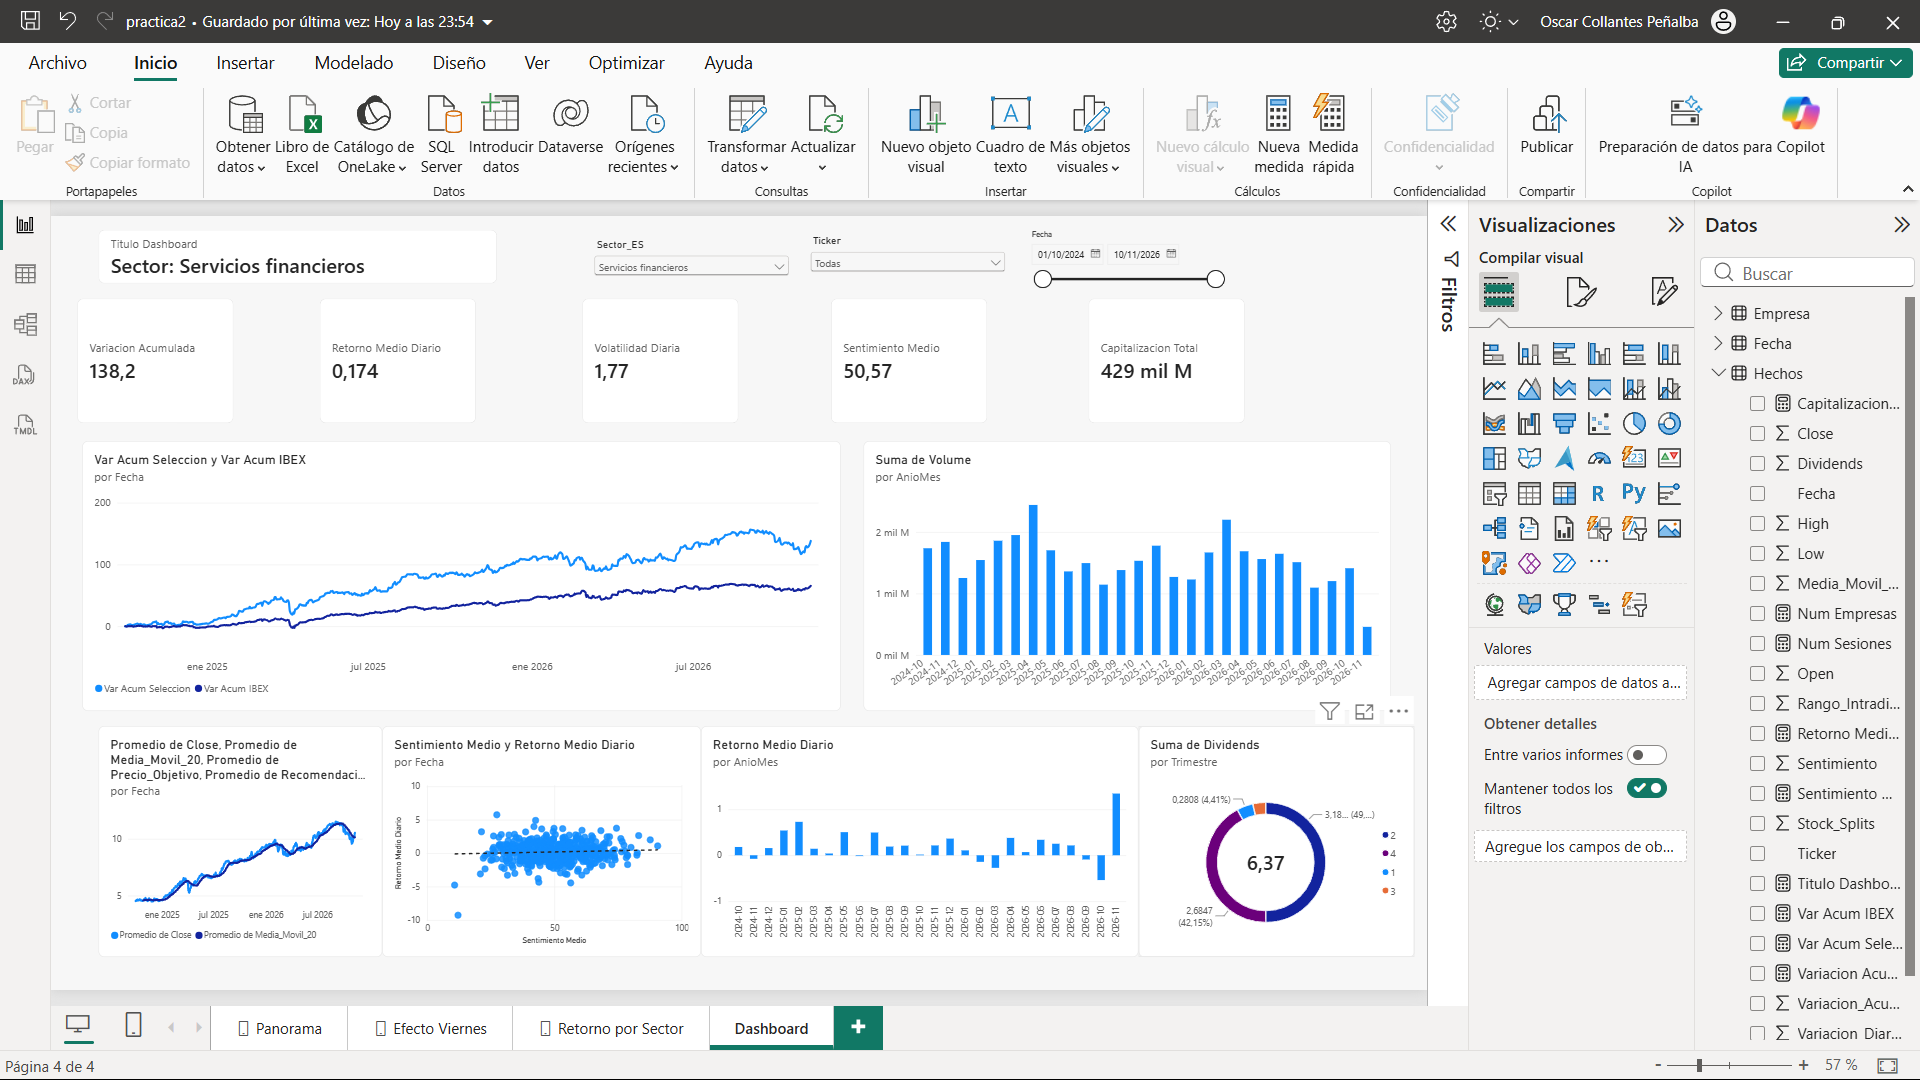

What the dashboard file says about the page in this screenshot:
{"tool":"powerbi","page":{"name":"Dashboard","canvas":[1920,1080],"ordinal":3},"visuals":[{"type":"slicer","fields":{"Values":["Empresa.Sector_ES"]},"box":[753.5,31.4,280.8,68],"z":0},{"type":"slicer","fields":{"Values":["Empresa.Ticker"]},"box":[1055.2,26.2,280.8,80.2],"z":1000},{"type":"slicer","fields":{"Values":["Fecha.Fecha"]},"box":[1360.5,19.2,280.8,95.9],"z":2000},{"type":"cardVisual","fields":{"Data":["Hechos.Variacion Acumulada"]},"box":[36.6,115.1,218,174.4],"z":3000},{"type":"cardVisual","fields":{"Data":["Hechos.Retorno Medio Diario"]},"box":[375,115.1,218,174.4],"z":4000},{"type":"cardVisual","fields":{"Data":["Hechos.Volatilidad Diaria"]},"box":[741.3,115.1,218,174.4],"z":5000},{"type":"cardVisual","fields":{"Data":["Hechos.Sentimiento Medio"]},"box":[1088.4,115.1,218,174.4],"z":6000},{"type":"cardVisual","fields":{"Data":["Hechos.Capitalizacion Total"]},"box":[1447.7,115.1,218,174.4],"z":7000},{"type":"lineChart","fields":{"Category":["Fecha.Fecha"],"Y":["Hechos.Var Acum Seleccion","Hechos.Var Acum IBEX"]},"box":[43.6,314,1058.7,376.7],"z":8000},{"type":"clusteredColumnChart","fields":{"Category":["Fecha.AnioMes"],"Y":["Sum(Hechos.Volume)"]},"box":[1133.7,314,736,376.7],"z":9000},{"type":"lineChart","fields":{"Category":["Fecha.Fecha"],"Y":["Avg(Hechos.Close)","Avg(Hechos.Media_Movil_20)"]},"box":[66.3,711.6,395.9,322.7],"z":10000},{"type":"scatterChart","fields":{"Category":["Fecha.Fecha"],"X":["Hechos.Sentimiento Medio"],"Y":["Hechos.Retorno Medio Diario"]},"box":[462.2,711.6,444.8,322.7],"z":11000},{"type":"clusteredColumnChart","fields":{"Category":["Fecha.AnioMes"],"Y":["Hechos.Retorno Medio Diario"]},"box":[907,711.6,610.5,322.7],"z":12000},{"type":"donutChart","fields":{"Category":["Fecha.Trimestre"],"Y":["Sum(Hechos.Dividends)"]},"box":[1517.4,711.6,385.5,322.7],"z":13000},{"type":"cardVisual","fields":{"Data":["Hechos.Titulo Dashboard"]},"box":[66.3,19.2,556.4,75],"z":13001}]}

Visuals, with their boxes on the page's 1920x1080 design canvas (x1, y1, x2, y2). These are canvas units, not pixel positions in the 1920x1080 screenshot, which may show the page scaled, cropped or inside an application window:
slicer - Empresa.Sector_ES: bbox(754, 31, 1034, 99)
slicer - Empresa.Ticker: bbox(1055, 26, 1336, 106)
slicer - Fecha.Fecha: bbox(1360, 19, 1641, 115)
cardVisual - Hechos.Variacion Acumulada: bbox(37, 115, 255, 290)
cardVisual - Hechos.Retorno Medio Diario: bbox(375, 115, 593, 290)
cardVisual - Hechos.Volatilidad Diaria: bbox(741, 115, 959, 290)
cardVisual - Hechos.Sentimiento Medio: bbox(1088, 115, 1306, 290)
cardVisual - Hechos.Capitalizacion Total: bbox(1448, 115, 1666, 290)
lineChart - Fecha.Fecha x Hechos.Var Acum Seleccion: bbox(44, 314, 1102, 691)
clusteredColumnChart - Fecha.AnioMes x Sum(Hechos.Volume): bbox(1134, 314, 1870, 691)
lineChart - Fecha.Fecha x Avg(Hechos.Close): bbox(66, 712, 462, 1034)
scatterChart - Fecha.Fecha x Hechos.Sentimiento Medio: bbox(462, 712, 907, 1034)
clusteredColumnChart - Fecha.AnioMes x Hechos.Retorno Medio Diario: bbox(907, 712, 1518, 1034)
donutChart - Fecha.Trimestre x Sum(Hechos.Dividends): bbox(1517, 712, 1903, 1034)
cardVisual - Hechos.Titulo Dashboard: bbox(66, 19, 623, 94)
